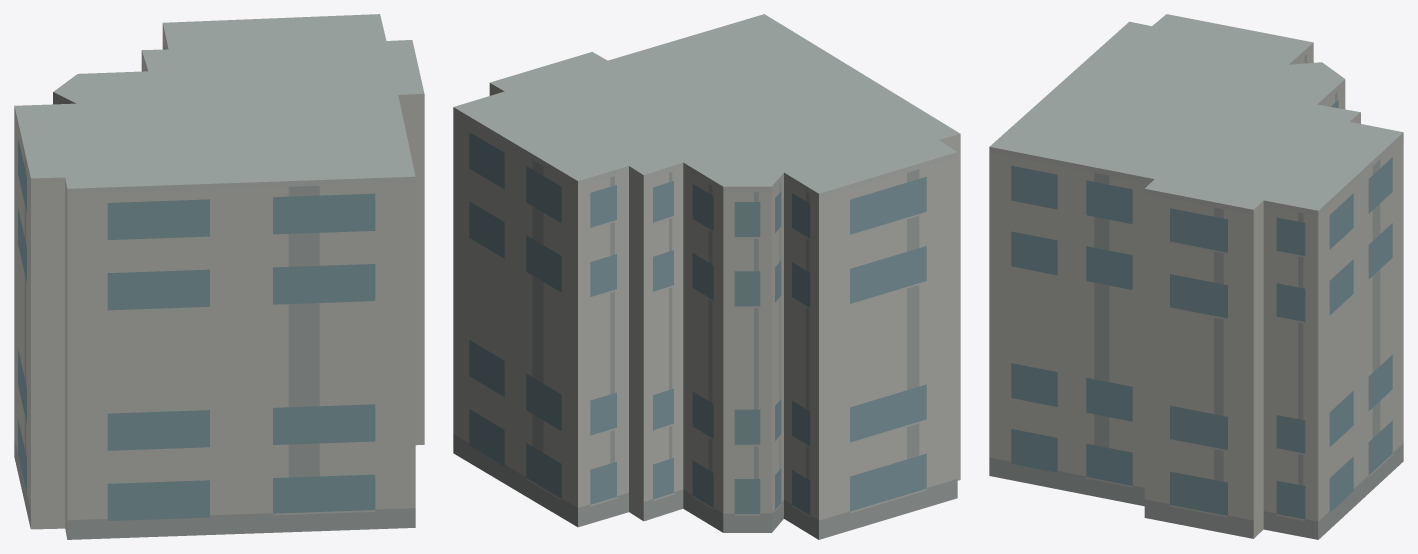
Rendered from survey-upis-33027329.glb.
The picture shows the model from 3 angles, left to right: view 1: azimuth 30°, elevation 25°; view 2: azimuth 150°, elevation 25°; view 3: azimuth 270°, elevation 25°; orthographic projection. The views are drawn at different scales.
Visible parts, largest first — view 1: survey-upis-33027329.tmp; view 2: survey-upis-33027329.tmp; view 3: survey-upis-33027329.tmp.
Part boxes in pixels (left/top/right/bottom): survey-upis-33027329.tmp: left=14, top=14, right=424, bottom=539; survey-upis-33027329.tmp: left=453, top=14, right=960, bottom=539; survey-upis-33027329.tmp: left=989, top=14, right=1403, bottom=539.
Bounding box in the file's own units: 19.05 × 14.85 × 16.95.
